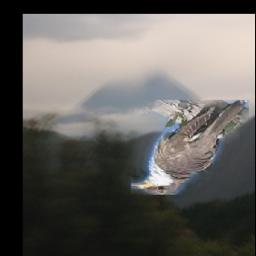Cuckoo: (131, 100, 249, 195)
